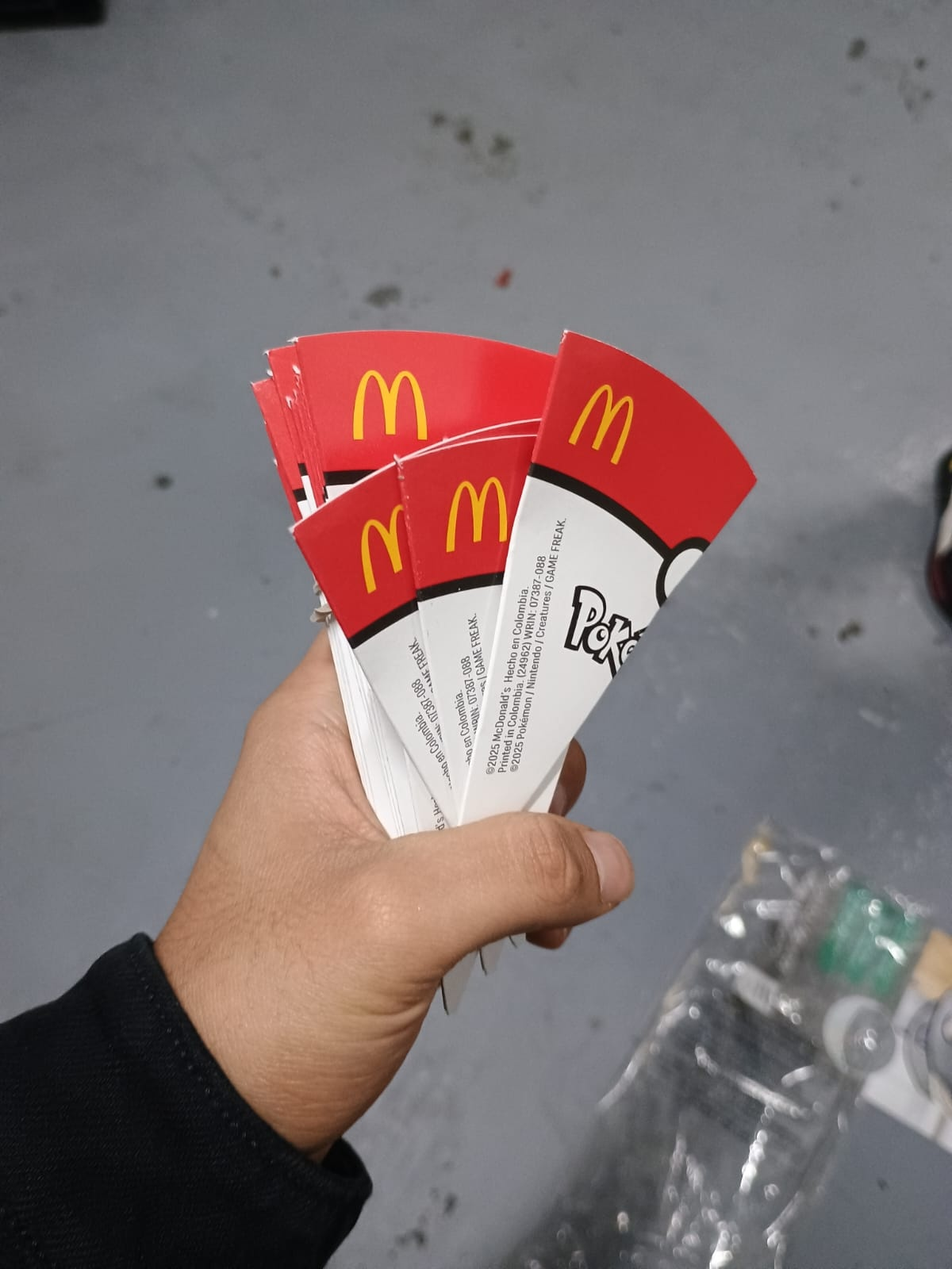Carton: (243, 331, 756, 814), (499, 285, 505, 331)
